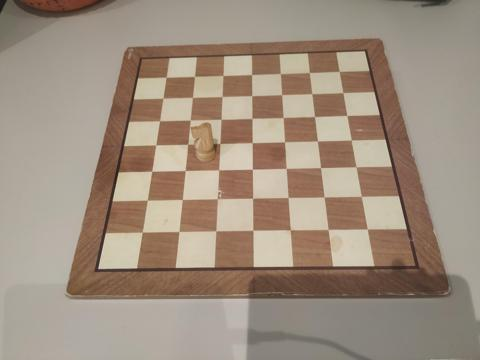xcorner: (135, 227, 145, 237), (172, 227, 182, 237), (209, 227, 219, 237), (247, 226, 257, 236), (285, 226, 295, 236), (323, 225, 333, 235), (362, 225, 372, 235), (140, 195, 150, 205), (176, 195, 186, 205), (211, 194, 221, 204), (247, 194, 257, 204), (283, 193, 293, 203), (320, 193, 330, 203), (356, 192, 366, 202), (146, 166, 156, 176), (179, 165, 189, 175), (213, 165, 223, 175), (247, 164, 257, 174), (282, 163, 292, 173), (316, 163, 326, 173), (351, 162, 361, 172), (150, 139, 160, 149), (182, 138, 192, 148), (215, 138, 225, 148), (247, 137, 257, 147), (280, 136, 290, 146), (313, 136, 323, 146), (346, 135, 356, 145), (154, 115, 164, 125), (185, 114, 195, 124), (216, 113, 226, 123), (247, 112, 257, 122), (279, 112, 289, 122), (310, 111, 320, 121), (342, 110, 352, 120), (158, 92, 168, 102), (188, 91, 198, 101), (217, 91, 227, 101), (247, 90, 257, 100), (277, 89, 287, 99), (308, 88, 318, 98), (338, 88, 348, 98), (162, 71, 172, 81), (190, 71, 200, 81), (219, 70, 229, 80), (247, 69, 257, 79), (276, 68, 286, 78), (305, 68, 315, 78), (334, 67, 344, 77)
